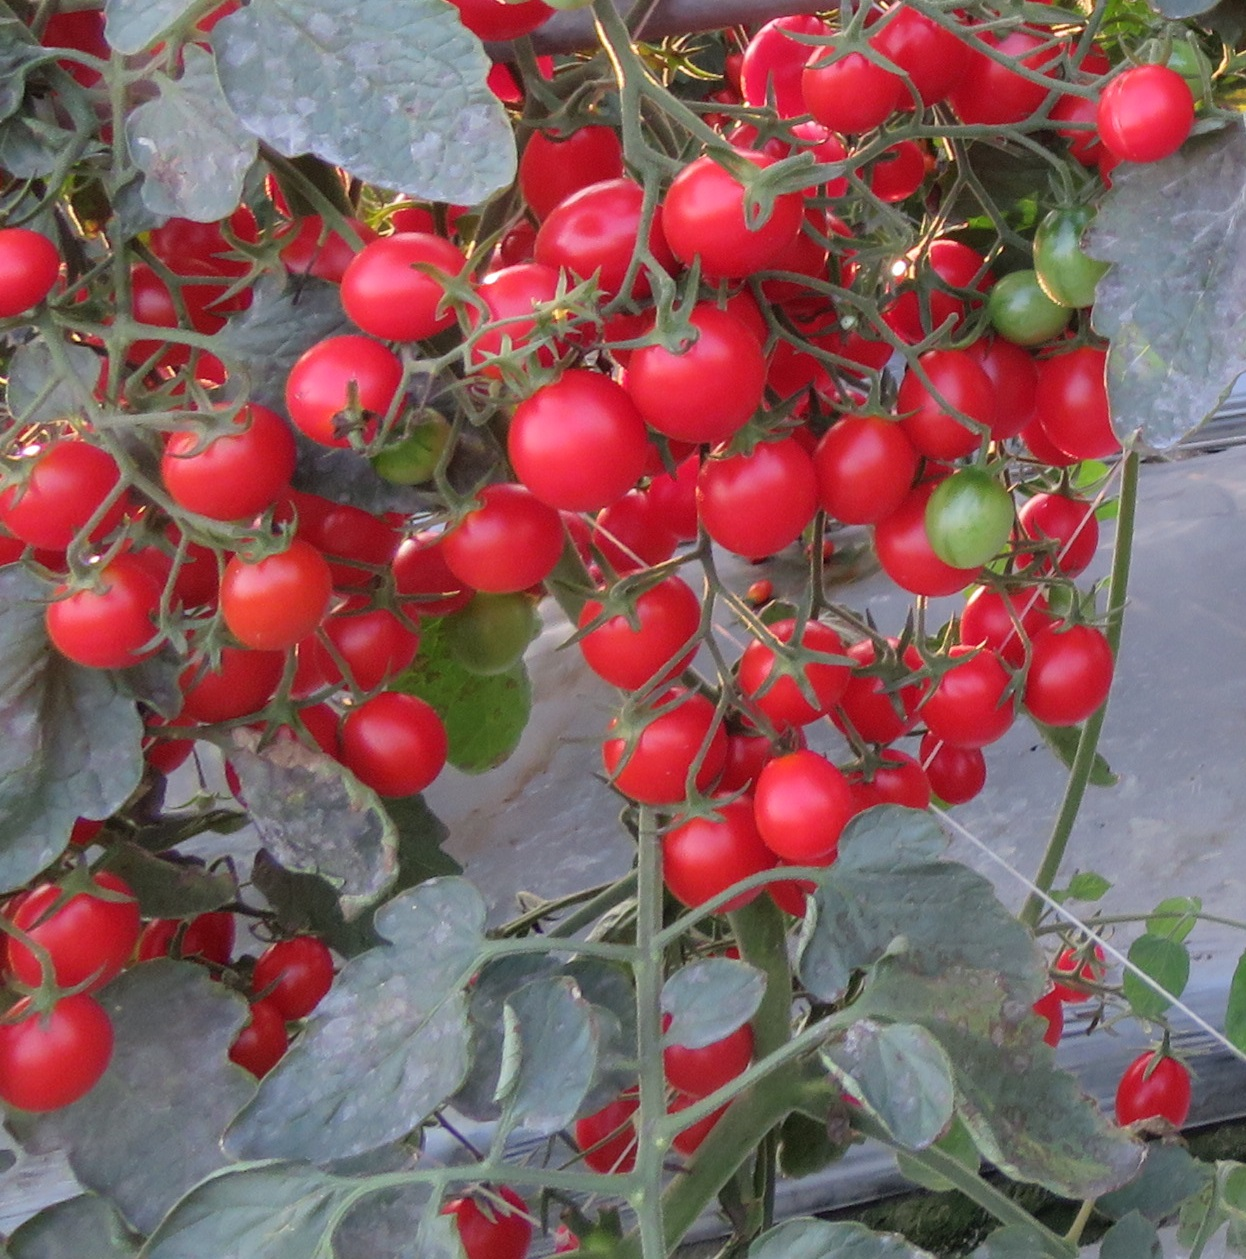green: (917, 465, 1019, 572), (447, 587, 542, 678), (981, 265, 1067, 352)
red: (505, 366, 652, 519), (618, 313, 764, 446), (529, 172, 675, 300), (665, 152, 806, 276), (13, 861, 143, 992), (94, 257, 243, 371), (155, 405, 293, 524), (41, 550, 181, 665), (573, 570, 704, 692), (333, 228, 467, 342), (282, 334, 408, 453), (1, 984, 118, 1108), (655, 789, 770, 914), (598, 693, 730, 801), (1, 438, 129, 550), (697, 439, 814, 562), (434, 489, 565, 596), (735, 618, 856, 733), (1029, 344, 1136, 471), (895, 341, 1002, 465), (220, 536, 333, 646), (834, 629, 934, 752), (317, 583, 426, 697), (806, 406, 911, 524), (521, 119, 633, 223), (343, 692, 447, 802), (750, 750, 845, 866), (1093, 67, 1197, 166), (177, 637, 291, 723), (1008, 483, 1103, 584), (800, 37, 903, 127), (929, 644, 1022, 741), (1028, 618, 1112, 718), (833, 742, 934, 818), (130, 902, 238, 971), (438, 1178, 531, 1259), (1110, 1055, 1190, 1145), (259, 933, 334, 1011), (919, 727, 990, 809), (2, 220, 60, 320), (1050, 931, 1112, 1006)
